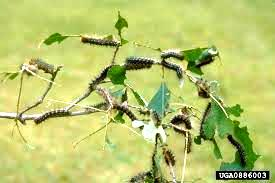Caterpillar: (106, 99, 147, 135), (79, 30, 120, 52), (30, 108, 76, 127), (226, 133, 250, 169), (29, 57, 59, 80), (170, 108, 192, 131), (160, 60, 185, 80), (123, 53, 158, 67), (125, 169, 152, 183), (163, 149, 178, 167), (151, 109, 163, 127), (160, 50, 185, 58)
